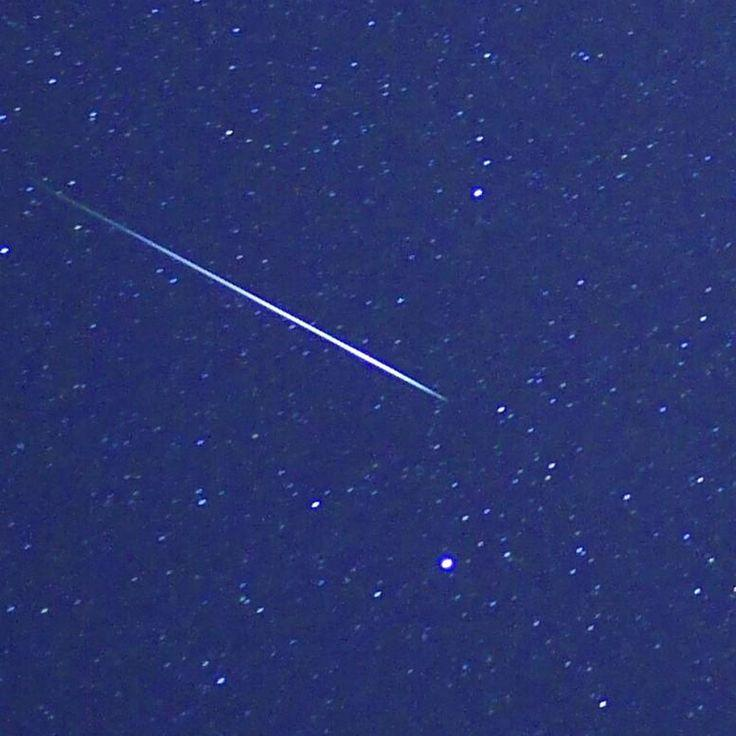meteor: (405, 375, 463, 417)
